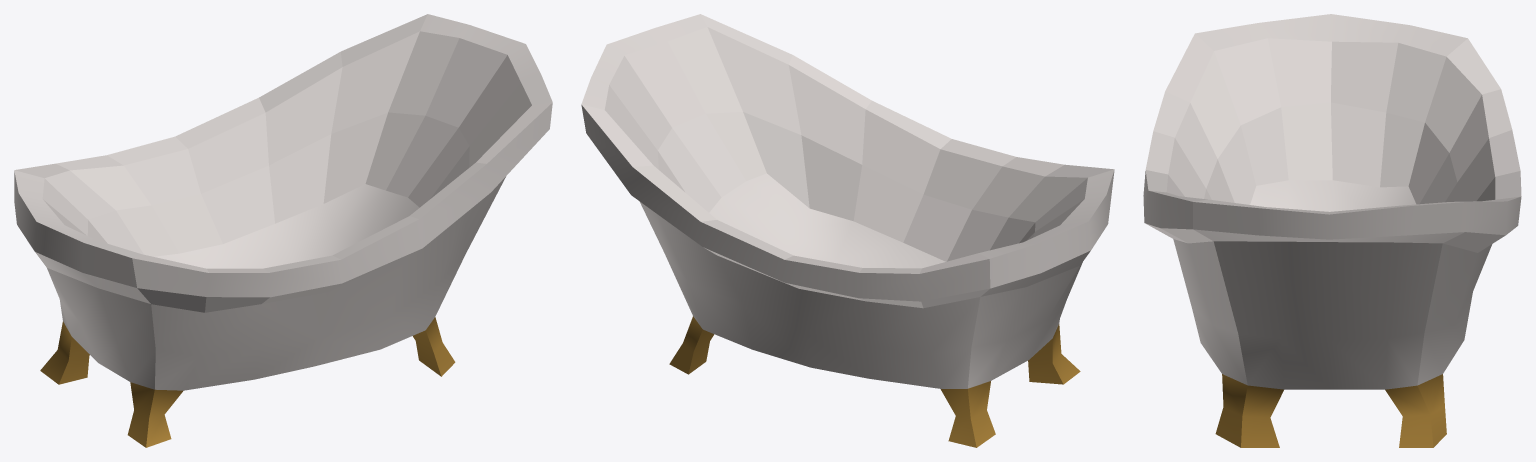
Rendered from clawfoot_bathtub.fbx.
3 renders of one model, left to right at view 1: azimuth 30°, elevation 25°; view 2: azimuth 150°, elevation 25°; view 3: azimuth 270°, elevation 25°, orthographic. The views are drawn at different scales.
Parts seen in each view (by area): view 1: clawtub; view 2: clawtub; view 3: clawtub.
Part boxes in pixels (x1=…): clawtub: x1=14, y1=14, x2=552, y2=447; clawtub: x1=581, y1=14, x2=1114, y2=447; clawtub: x1=1143, y1=14, x2=1521, y2=447.
Bounding box in the file's own units: 205 × 105 × 122.
